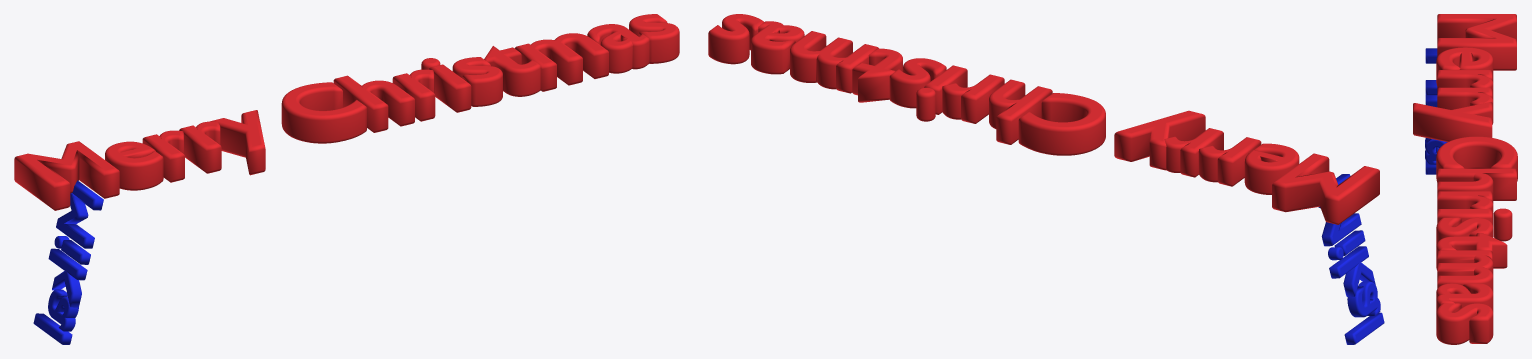
The model's file is Mikal.glb.
3 renders of one model, left to right at view 1: azimuth 30°, elevation 25°; view 2: azimuth 150°, elevation 25°; view 3: azimuth 270°, elevation 25°, orthographic. The views are drawn at different scales.
Visible parts, largest first — view 1: Text, Text.001; view 2: Text, Text.001; view 3: Text, Text.001.
Boxes of the visible parts, <box> form: Text: <box>14,14,679,210</box>; Text.001: <box>33,180,103,344</box>; Text: <box>708,14,1379,224</box>; Text.001: <box>1318,174,1384,344</box>; Text: <box>1413,14,1517,344</box>; Text.001: <box>1425,48,1447,174</box>.
Size of the model in its own units: 9.52 by 2.28 by 1.38.
